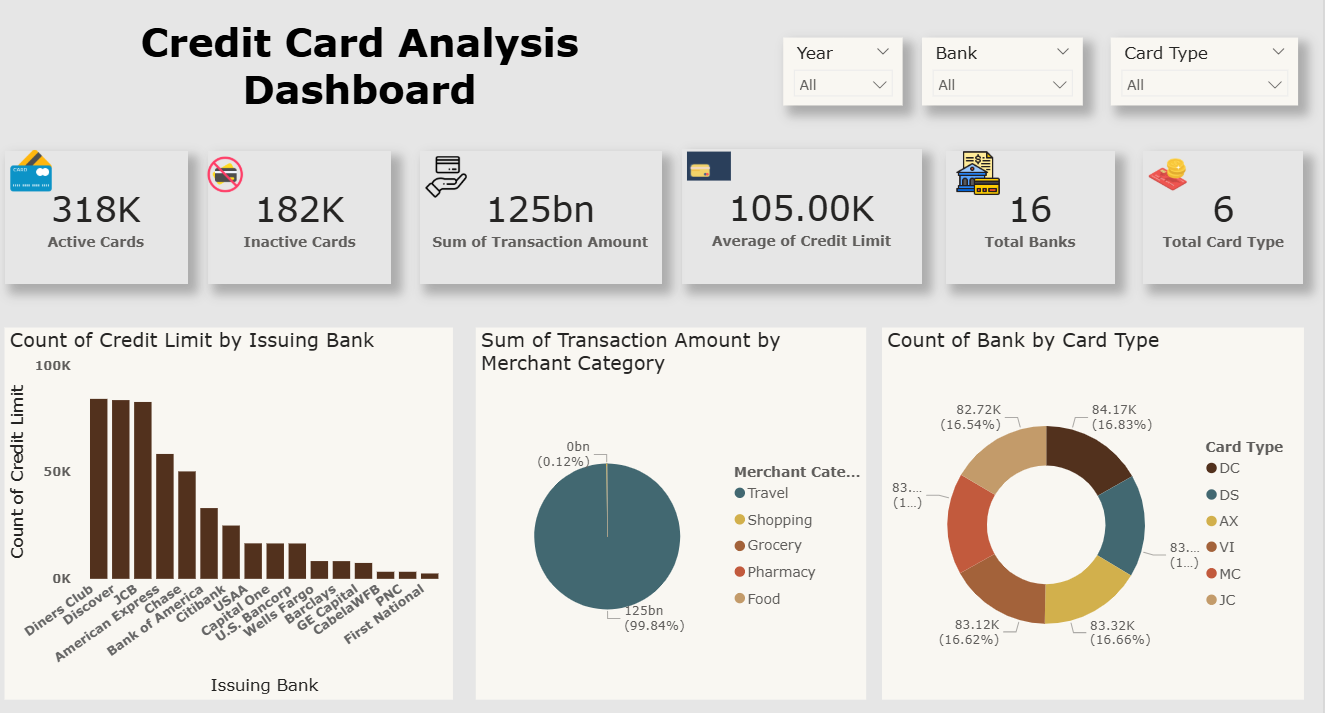

Layout of this report page (visuals, bound fields, positions):
{"tool":"powerbi","page":{"name":"CC_OverView","canvas":[1280,720],"ordinal":0},"visuals":[{"type":"card","fields":{"Values":["credit_card.Active Cards"]},"box":[7.3,165.6,176.5,128.1],"z":0},{"type":"card","fields":{"Values":["Count(credit_card.IssuingBank)"]},"box":[916.2,165.6,163.2,128.1],"z":1000},{"type":"clusteredColumnChart","fields":{"Y":["CountNonNull(credit_card.CreditLimit)"],"Category":["credit_card.IssuingBank"]},"box":[7.3,334.8,432.7,359],"z":2000},{"type":"donutChart","fields":{"Category":["credit_card.CardTypeCode"],"Y":["CountNonNull(credit_card.IssuingBank)"]},"box":[854.5,334.8,407.3,359],"z":3000},{"type":"card","fields":{"Values":["Avg(credit_card.CreditLimit)"]},"box":[661.2,163.2,230.9,130.5],"z":4000},{"type":"card","fields":{"Values":["Count(credit_card.CardTypeCode)"]},"box":[1105.9,165.6,154.7,128.1],"z":5000},{"type":"card","fields":{"Values":["credit_card.This Month Expiring"]},"box":[204.3,165.6,176.5,128.1],"z":6000},{"type":"textbox","box":[0,0,699.8,147.5],"z":7000},{"type":"slicer","fields":{"Values":["credit_card.IssueDate.Variation.Date Hierarchy.Year"]},"box":[758.3,55.6,115.5,65.6],"z":8000},{"type":"slicer","fields":{"Values":["credit_card.IssuingBank"]},"box":[892.3,55.6,155.4,65.6],"z":9000},{"type":"slicer","fields":{"Values":["credit_card.CardTypeCode"]},"box":[1074.7,55.6,181,65.6],"z":10000},{"type":"image","box":[7.3,159.5,52,49.6],"z":11000},{"type":"image","box":[195.8,165.6,49.6,44.7],"z":12000},{"type":"image","box":[916.2,159.5,62.9,54.4],"z":13000},{"type":"image","box":[1105.9,162,47.1,52],"z":14000},{"type":"image","box":[661.2,149.9,52,59.2],"z":15000},{"type":"pieChart","fields":{"Category":["credit_card.Merchant Category"],"Y":["Sum(credit_card.Transaction Amount)"]},"box":[461.7,334.8,377.1,359],"z":16000},{"type":"card","fields":{"Values":["Sum(credit_card.Transaction Amount)"]},"box":[407.3,165.6,233.3,128.1],"z":17000},{"type":"image","box":[407.3,165.6,50.8,49.6],"z":18000}]}

Visuals, with their boxes on the page's 1280x720 design canvas (x1, y1, x2, y2). These are canvas units, not pixel positions in the 1325x713 screenshot, which may show the page scaled, cropped or inside an application window:
card - credit_card.Active Cards: <box>7,166,184,294</box>
card - Count(credit_card.IssuingBank): <box>916,166,1079,294</box>
clusteredColumnChart - CountNonNull(credit_card.CreditLimit) x credit_card.IssuingBank: <box>7,335,440,694</box>
donutChart - credit_card.CardTypeCode x CountNonNull(credit_card.IssuingBank): <box>854,335,1262,694</box>
card - Avg(credit_card.CreditLimit): <box>661,163,892,294</box>
card - Count(credit_card.CardTypeCode): <box>1106,166,1261,294</box>
card - credit_card.This Month Expiring: <box>204,166,381,294</box>
textbox: <box>0,0,700,148</box>
slicer - credit_card.IssueDate.Variation.Date Hierarchy.Year: <box>758,56,874,121</box>
slicer - credit_card.IssuingBank: <box>892,56,1048,121</box>
slicer - credit_card.CardTypeCode: <box>1075,56,1256,121</box>
image: <box>7,160,59,209</box>
image: <box>196,166,245,210</box>
image: <box>916,160,979,214</box>
image: <box>1106,162,1153,214</box>
image: <box>661,150,713,209</box>
pieChart - credit_card.Merchant Category x Sum(credit_card.Transaction Amount): <box>462,335,839,694</box>
card - Sum(credit_card.Transaction Amount): <box>407,166,641,294</box>
image: <box>407,166,458,215</box>
